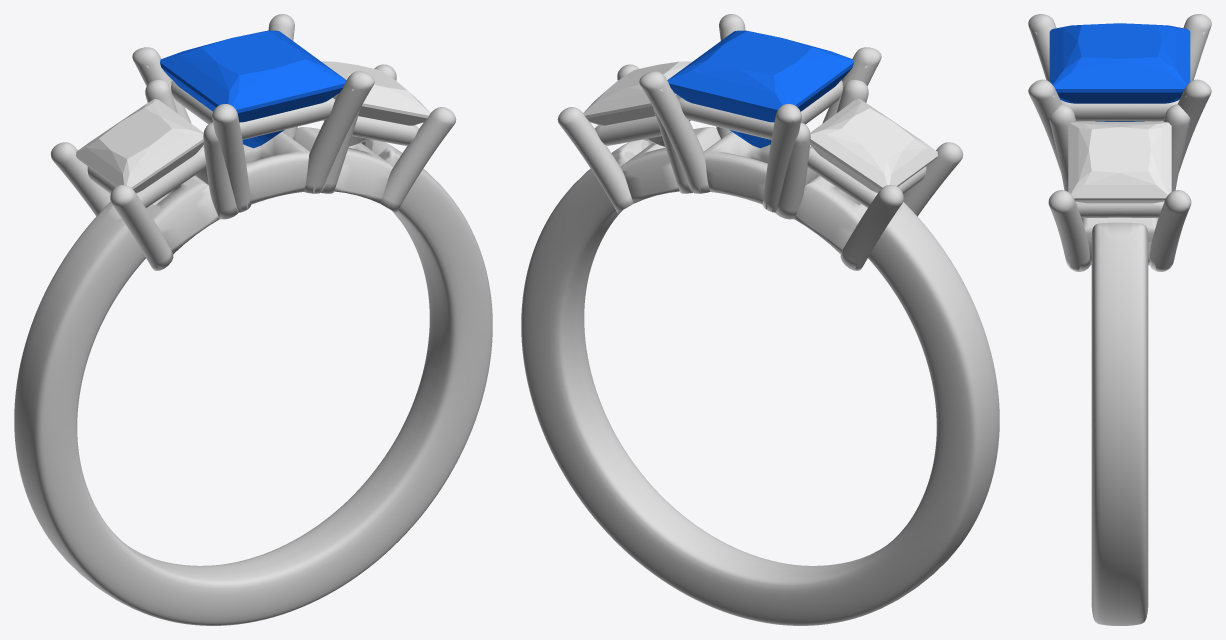
Rendered from bluesapphire-princess-platinum-4prong-straightband-3stone.glb.
3 views of the same model, side by side, from view 1: azimuth 30°, elevation 25°; view 2: azimuth 150°, elevation 25°; view 3: azimuth 270°, elevation 25° (orthographic).
Parts seen in each view (by area): view 1: metal, stone, side, side.001; view 2: metal, stone, side, side.001; view 3: metal, stone, side.001.
Boxes of the visible parts, x1=… form: metal: x1=14, y1=14, x2=492, y2=625; stone: x1=160, y1=30, x2=346, y2=148; side: x1=76, y1=99, x2=203, y2=193; side.001: x1=321, y1=61, x2=430, y2=146; metal: x1=521, y1=14, x2=999, y2=625; stone: x1=667, y1=30, x2=853, y2=148; side: x1=810, y1=99, x2=937, y2=193; side.001: x1=583, y1=61, x2=692, y2=146; metal: x1=1028, y1=14, x2=1211, y2=625; stone: x1=1049, y1=23, x2=1190, y2=121; side.001: x1=1068, y1=122, x2=1171, y2=203.
Bounding box in the file's own units: 20.5 × 23.85 × 7.08.
